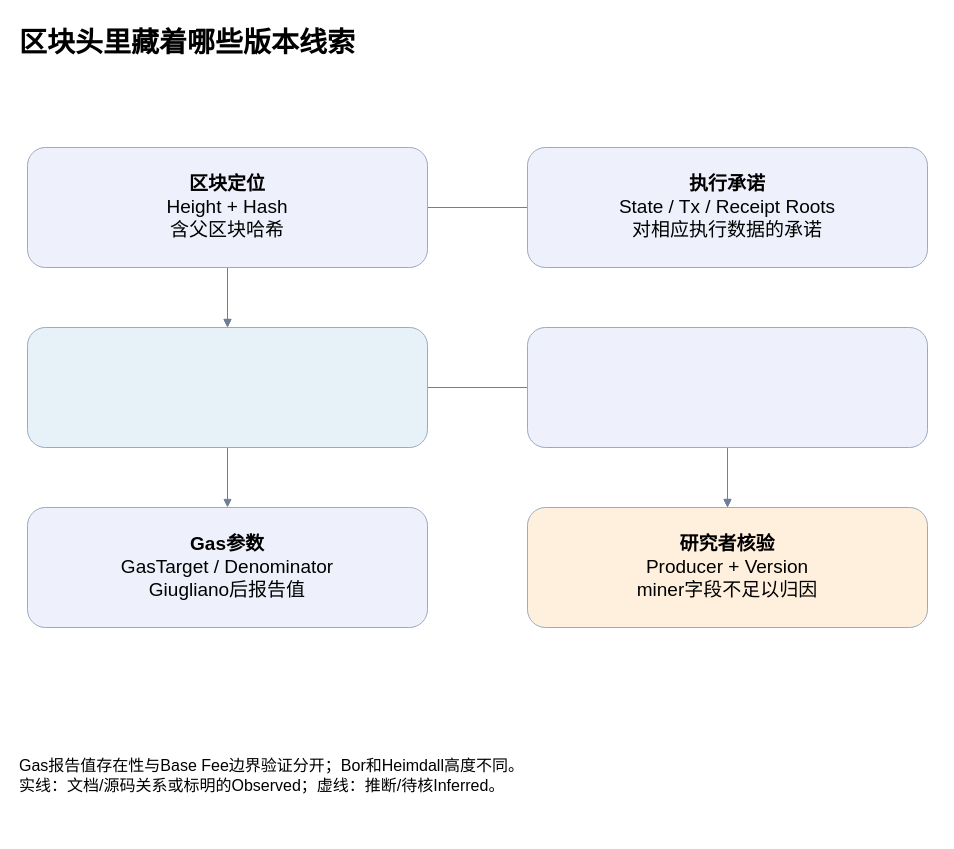
The diagram is 954 pixels wide and 849 high, and some of its shapes have lost their labels. Each missing label, with the centre of its shape:
"Bor额外数据 Versioned Extra Data 签名及版本化字段" belongs at [227,387].
"Span授权 Heimdall Span 确定该高度的生产资格" belongs at [727,387].
